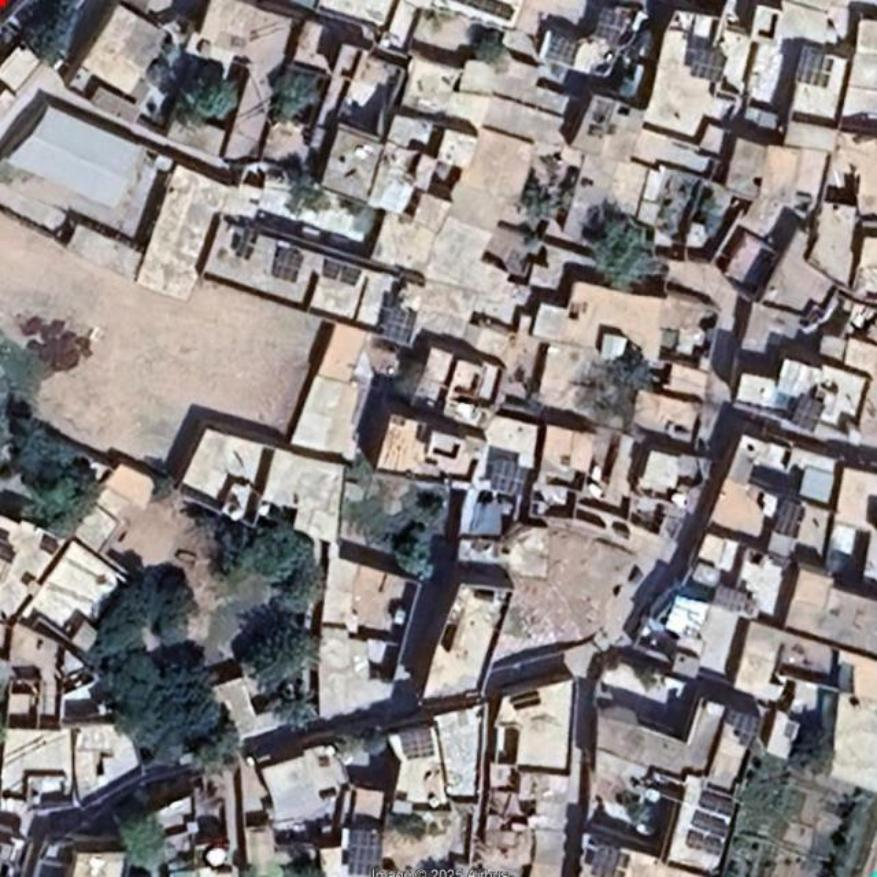Solarpanel: (349, 830, 385, 876), (795, 45, 828, 89), (790, 393, 824, 435), (383, 306, 419, 343), (491, 460, 529, 495), (689, 49, 726, 81), (548, 34, 581, 65), (274, 248, 305, 281), (686, 831, 723, 857), (692, 813, 729, 839), (324, 259, 360, 284), (698, 791, 734, 815)
